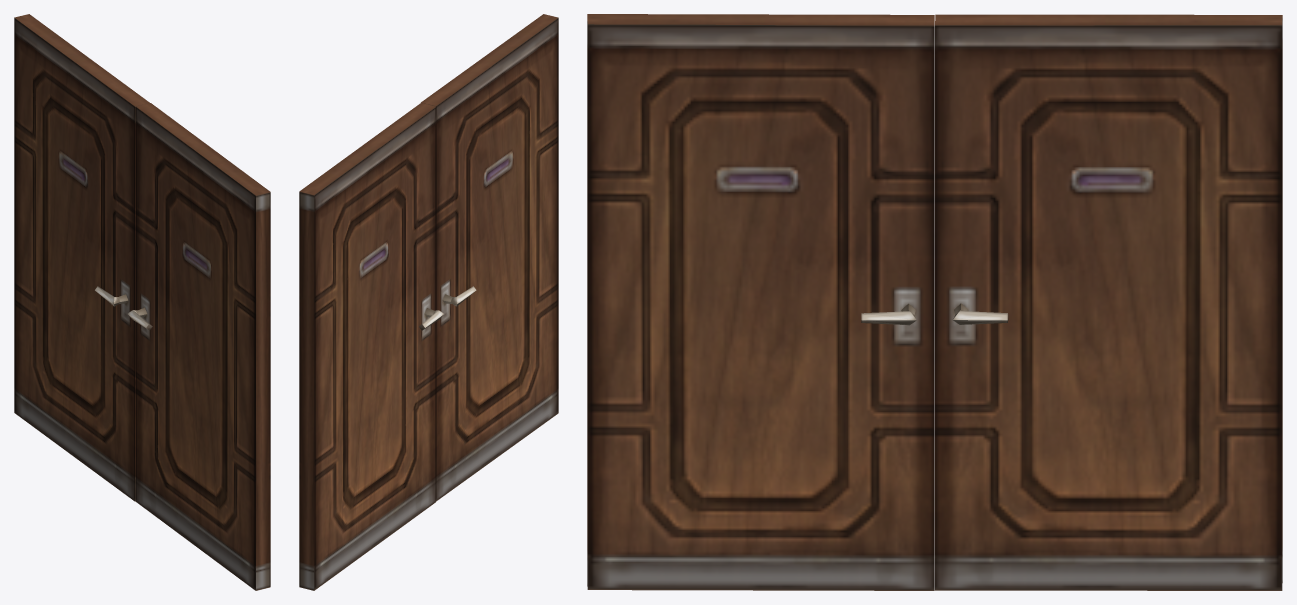
Rendered from a_SCdoor02_2.glb.
3 views of the same model, side by side, from view 1: azimuth 30°, elevation 25°; view 2: azimuth 150°, elevation 25°; view 3: azimuth 270°, elevation 25° (orthographic). The views are drawn at different scales.
Parts seen in each view (by area): view 1: a_SCdoor02_2; view 2: a_SCdoor02_2; view 3: a_SCdoor02_2.
Boxes of the visible parts, x1,y1,x2,y2 form: a_SCdoor02_2: (14,14,270,590); a_SCdoor02_2: (299,14,558,590); a_SCdoor02_2: (587,14,1282,590).
Bounding box in the file's own units: 0.2981 × 2.5 × 2.79.
1 material, 1 textured.
